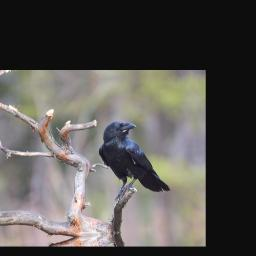Crow: (96, 116, 173, 201)
